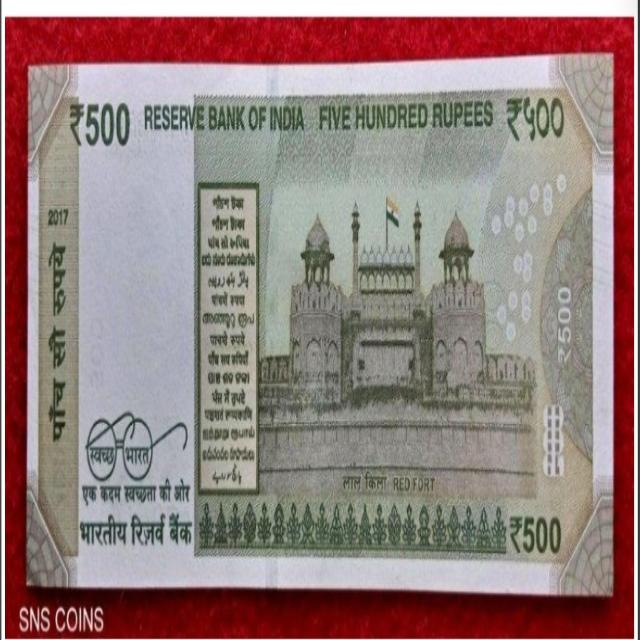500IndianRupees: (30, 63, 610, 592)
